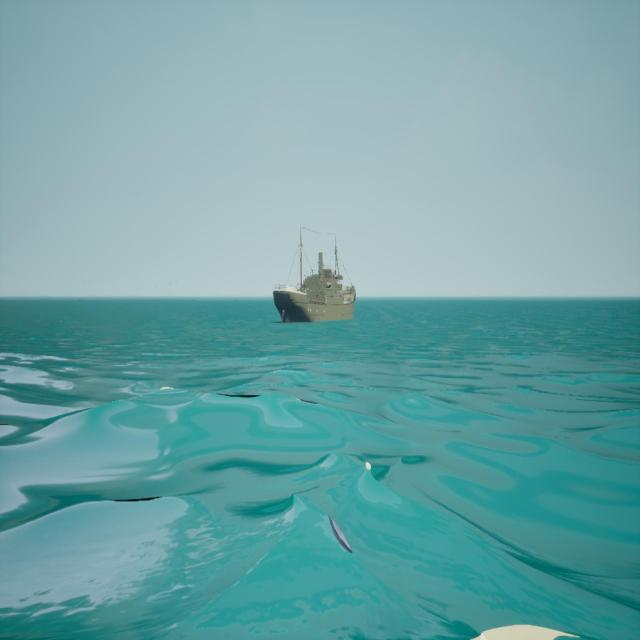fishing ship: (275, 228, 358, 326)
